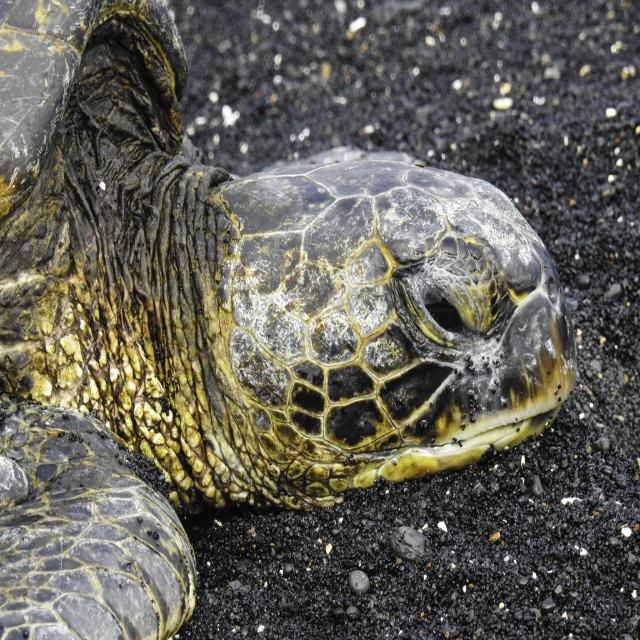Tortoise: (0, 0, 576, 640)
